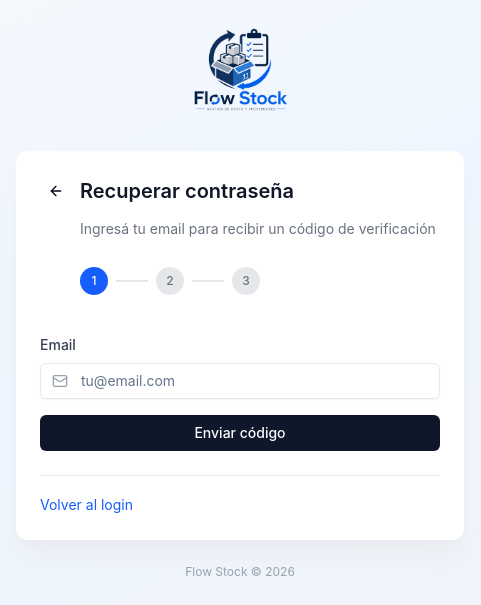
ResetPasswordPage › Paso 1 - Email › avanza al paso 2 con email válido
The width and height of the screenshot is (481, 605).
Type "test@test.com" into the field with placeholder "tu@email.com" at {"x": 240, "y": 380}, box x1=40 y1=362 x2=440 y2=398
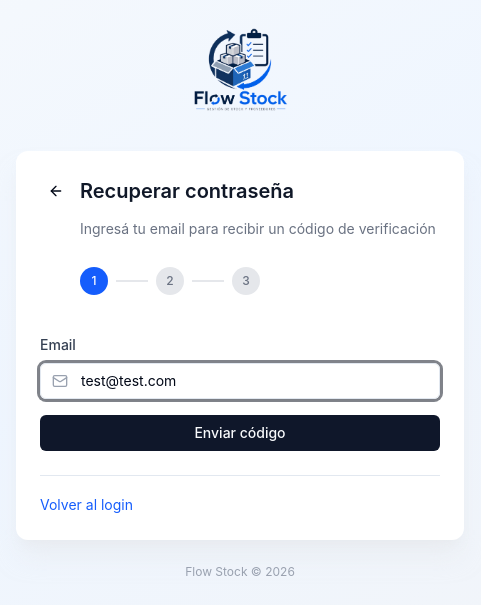
Click the button "Enviar código" at {"x": 240, "y": 432}, box x1=40 y1=414 x2=440 y2=450
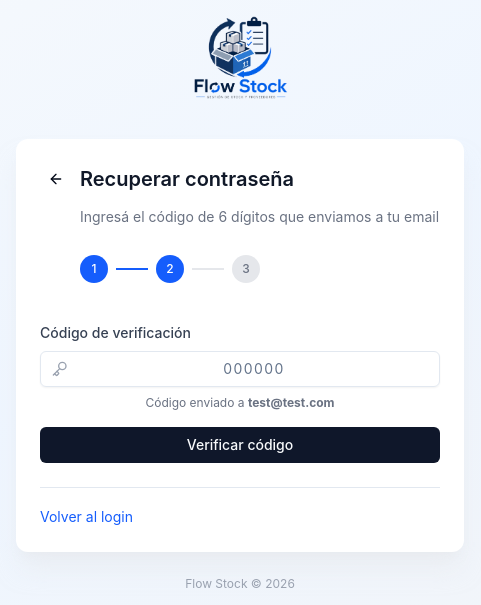
Check: the text "Ingresá el código de 6 dígitos que enviamos a tu email" is shown, box x1=80 y1=206 x2=440 y2=226
